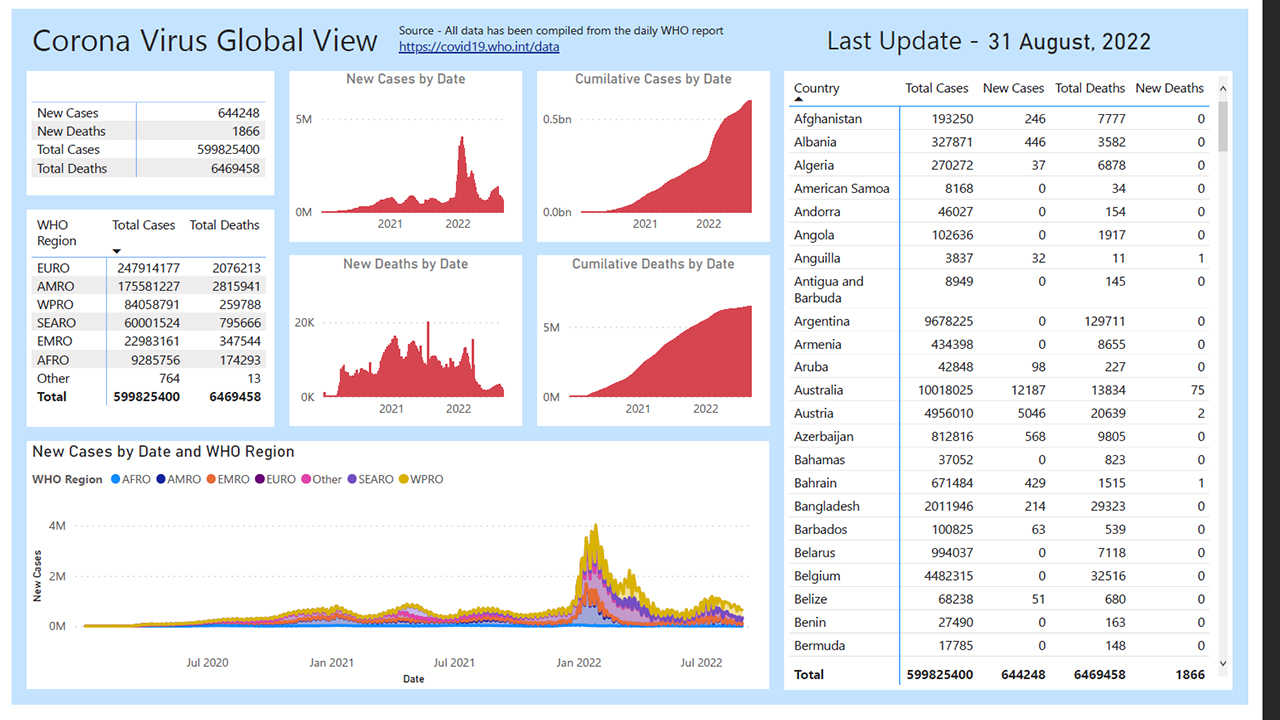

Layout of this report page (visuals, bound fields, positions):
{"tool":"powerbi","page":{"name":"Corona Virus Global View","canvas":[1280,720],"ordinal":0},"visuals":[{"type":"pivotTable","fields":{"Values":["COVID-19 Reports.Total Cases","COVID-19 Reports.New Cases1","COVID-19 Reports.Total Deaths","COVID-19 Reports.New Deaths"],"Rows":["COVID-19 Reports.Country"]},"box":[800,64.4,464.4,640],"z":0},{"type":"pivotTable","fields":{"Rows":["COVID-19 Reports.WHO_region"],"Values":["COVID-19 Reports.Total Cases","COVID-19 Reports.Total Deaths"]},"box":[16,208,256,224],"z":1000},{"type":"pivotTable","fields":{"Values":["COVID-19 Reports.New Cases","COVID-19 Reports.New Deaths","COVID-19 Reports.Total Cases","COVID-19 Reports.Total Deaths"]},"box":[16,64,256,128],"z":2000},{"type":"columnChart","fields":{"Y":["COVID-19 Reports.New Deaths"],"Category":["LocalDateTable_50849c2c-d220-4478-a1ab-0ed45a15b877.Date"]},"box":[288,256,240,176],"z":3000},{"type":"columnChart","fields":{"Y":["COVID-19 Reports.New Cases"],"Category":["LocalDateTable_50849c2c-d220-4478-a1ab-0ed45a15b877.Date"]},"box":[288,64,240,176],"z":4000},{"type":"columnChart","title":"Cumilative Deaths by Date","fields":{"Category":["LocalDateTable_50849c2c-d220-4478-a1ab-0ed45a15b877.Date"],"Y":["COVID-19 Reports.Cumilative Deaths"]},"box":[544,256,240,176],"z":5000},{"type":"stackedAreaChart","fields":{"Category":["LocalDateTable_50849c2c-d220-4478-a1ab-0ed45a15b877.Date"],"Y":["COVID-19 Reports.New Cases"],"Series":["COVID-19 Reports.WHO Region"]},"box":[16,448,768,256],"z":6000},{"type":"columnChart","title":"Cumilative Cases by Date","fields":{"Y":["COVID-19 Reports.All Cases"],"Category":["LocalDateTable_50849c2c-d220-4478-a1ab-0ed45a15b877.Date"]},"box":[544,64,240,176],"z":7000},{"type":"card","fields":{"Values":["Max(COVID-19 Reports.Date_reported)"]},"box":[983.3,12.2,224.4,41.1],"z":8000},{"type":"textbox","box":[838.9,7.4,176,48],"z":9000},{"type":"textbox","box":[15.6,3.3,381.1,60],"z":10000},{"type":"textbox","box":[395.6,7.8,387.8,55.6],"z":11000}]}

Visuals, with their boxes in screenshot pixels (x1, y1, x2, y2), scaled from the page's 1280x720 canvas onto the 1280x720 screenshot:
pivotTable - COVID-19 Reports.Total Cases x COVID-19 Reports.New Cases1: [x1=800, y1=64, x2=1264, y2=704]
pivotTable - COVID-19 Reports.WHO_region x COVID-19 Reports.Total Cases: [x1=16, y1=208, x2=272, y2=432]
pivotTable - COVID-19 Reports.New Cases x COVID-19 Reports.New Deaths: [x1=16, y1=64, x2=272, y2=192]
columnChart - COVID-19 Reports.New Deaths x LocalDateTable_50849c2c-d220-4478-a1ab-0ed45a15b877.Date: [x1=288, y1=256, x2=528, y2=432]
columnChart - COVID-19 Reports.New Cases x LocalDateTable_50849c2c-d220-4478-a1ab-0ed45a15b877.Date: [x1=288, y1=64, x2=528, y2=240]
"Cumilative Deaths by Date" columnChart: [x1=544, y1=256, x2=784, y2=432]
stackedAreaChart - LocalDateTable_50849c2c-d220-4478-a1ab-0ed45a15b877.Date x COVID-19 Reports.New Cases: [x1=16, y1=448, x2=784, y2=704]
"Cumilative Cases by Date" columnChart: [x1=544, y1=64, x2=784, y2=240]
card - Max(COVID-19 Reports.Date_reported): [x1=983, y1=12, x2=1208, y2=53]
textbox: [x1=839, y1=7, x2=1015, y2=55]
textbox: [x1=16, y1=3, x2=397, y2=63]
textbox: [x1=396, y1=8, x2=783, y2=63]
